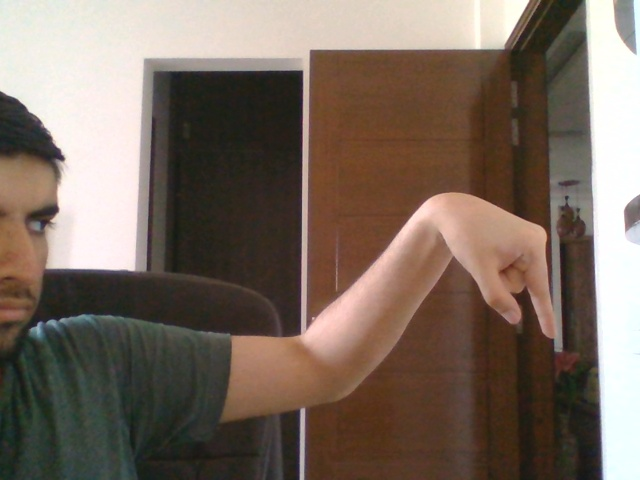LetterQ: (433, 190, 558, 340)
